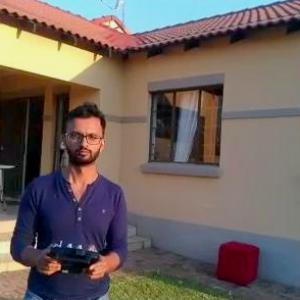follow: (4, 97, 131, 299)
